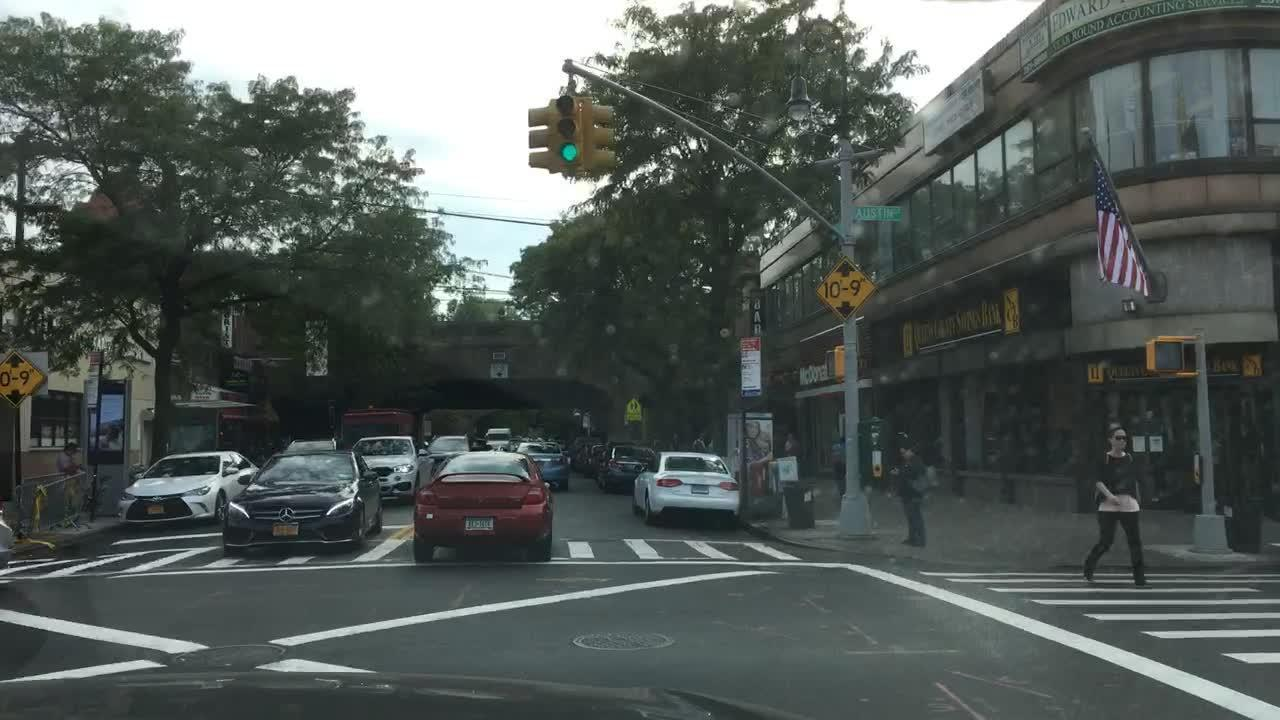Mercedes: (273, 506, 299, 525)
